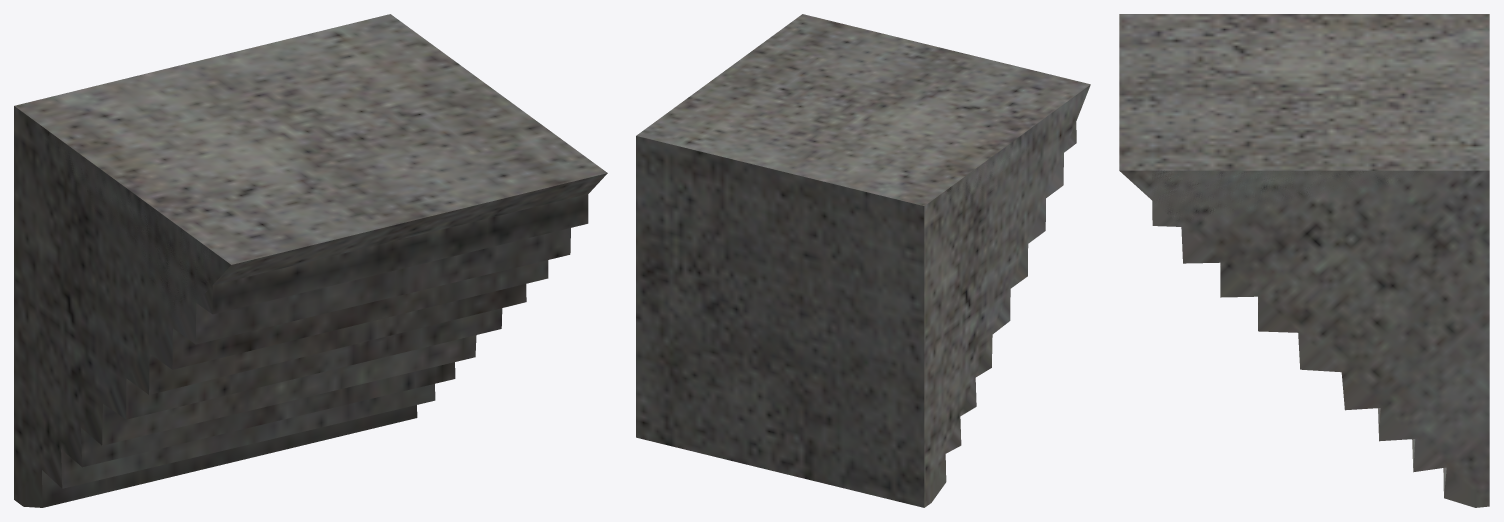
The model's file is concrete_stairs_ramp.obj.
3 views of the same model, side by side, from view 1: azimuth 30°, elevation 25°; view 2: azimuth 150°, elevation 25°; view 3: azimuth 270°, elevation 25° (orthographic). The views are drawn at different scales.
Visible parts, largest first — view 1: Cube.001, Stairs_Cube.002; view 2: Cube.001, Stairs_Cube.002; view 3: Cube.001, Stairs_Cube.002.
Part boxes in pixels (x1,y1,x2,y2): Cube.001: (14,14,607,499); Stairs_Cube.002: (14,18,588,507); Cube.001: (636,14,1090,507); Stairs_Cube.002: (689,122,1076,507); Cube.001: (1119,14,1489,505); Stairs_Cube.002: (1152,49,1489,507).
Size of the model in its own units: 4 by 4.02 by 4.
